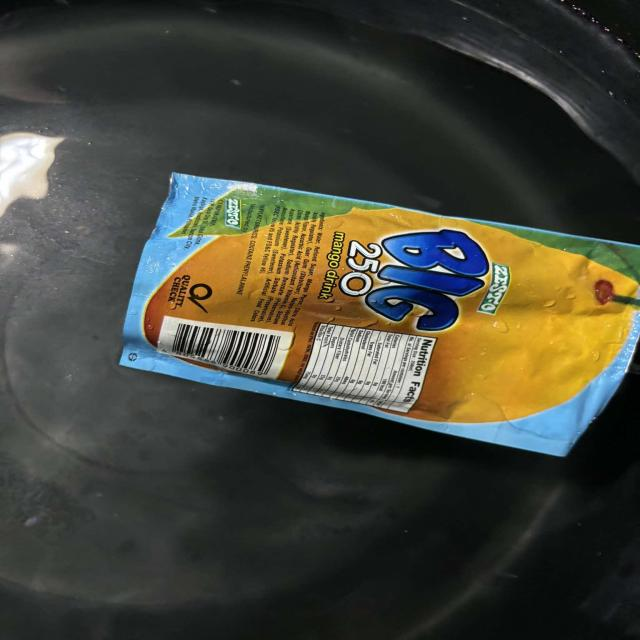Plastic Pouch: (120, 173, 640, 456)
